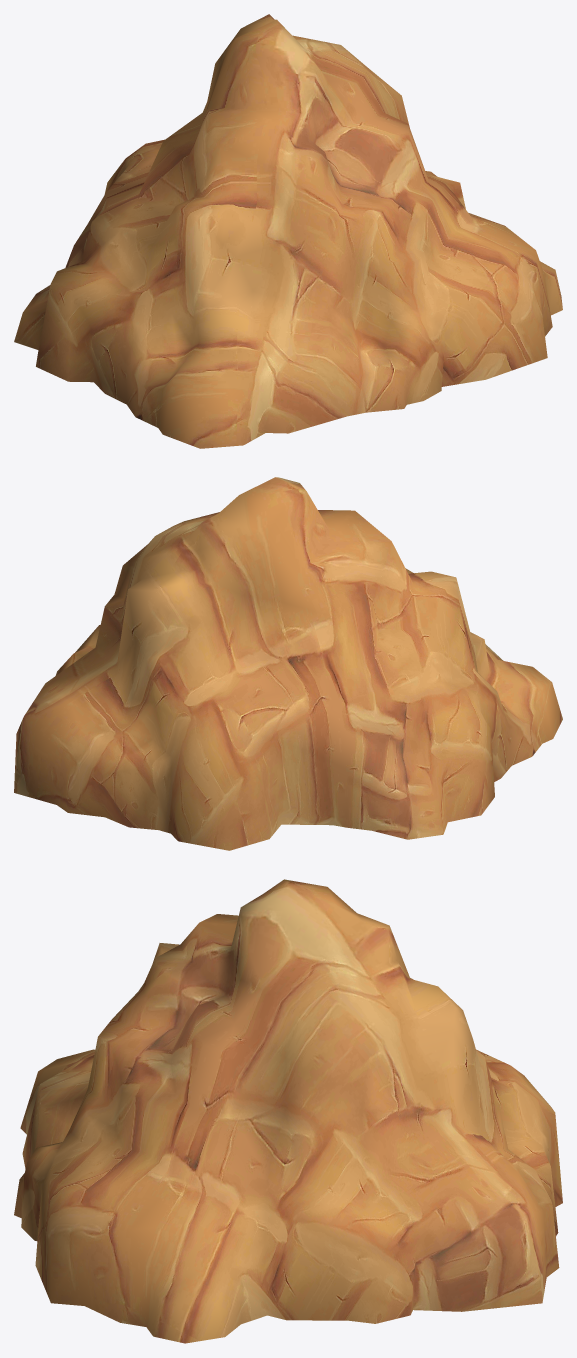
The model's file is rock.fbx.
The picture shows the model from 3 angles, top to bottom: view 1: azimuth 30°, elevation 25°; view 2: azimuth 150°, elevation 25°; view 3: azimuth 270°, elevation 25°; orthographic projection. The views are drawn at different scales.
Parts seen in each view (by area): view 1: Rock1; view 2: Rock1; view 3: Rock1.
Part boxes in pixels (<box>): Rock1: <box>14,14,562,448</box>; Rock1: <box>14,477,562,850</box>; Rock1: <box>14,879,562,1343</box>.
Bounding box in the file's own units: 929 × 552 × 839.
